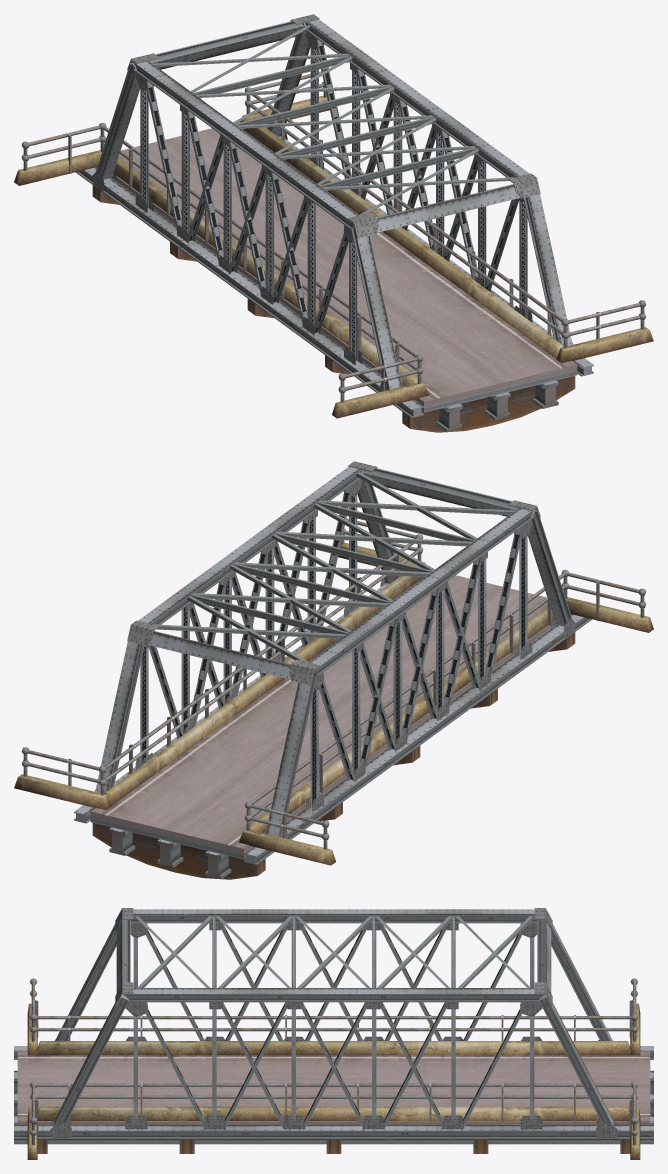
The model's file is truss_bridge.glb.
3 renders of one model, top to bottom at view 1: azimuth 30°, elevation 25°; view 2: azimuth 150°, elevation 25°; view 3: azimuth 270°, elevation 25°, orthographic. The views are drawn at different scales.
Parts seen in each view (by area): view 1: Bridge; view 2: Bridge; view 3: Bridge.
Boxes of the visible parts, x1,y1,x2,y2 form: Bridge: (14, 14, 653, 432); Bridge: (14, 461, 653, 879); Bridge: (14, 908, 653, 1159).
Size of the model in its own units: 8.47 by 4.88 by 15.61.
Materials: 1 (1 with a texture image).
